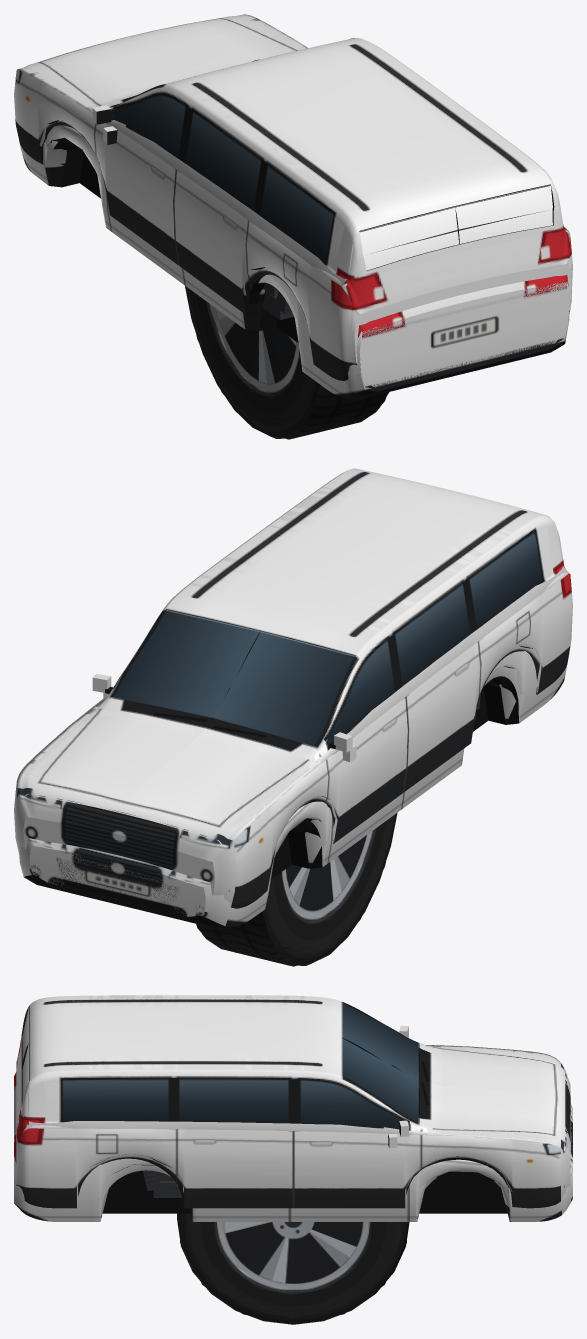
The model's file is cars.14a2acff.glb.
The picture shows the model from 3 angles, top to bottom: view 1: azimuth 30°, elevation 25°; view 2: azimuth 150°, elevation 25°; view 3: azimuth 270°, elevation 25°; orthographic projection. The views are drawn at different scales.
Parts seen in each view (by area): view 1: suv_0, suv_2, suv_1, sedan_1, sedan_0, hatch_0, sedan_2, wheel_1, wheel_2, wheel_0, hatch_1, hatch_2; view 2: suv_0, suv_2, sedan_0, suv_1, wheel_1, sedan_2, wheel_0, wheel_2, hatch_0, hatch_2, sedan_1; view 3: suv_0, suv_2, sedan_0, wheel_2, suv_1, wheel_1, wheel_0, hatch_0, hatch_2.
Boxes of the visible parts, x1,y1,x2,y2 form: suv_0: (14, 14, 572, 380); suv_2: (28, 18, 569, 360); suv_1: (20, 14, 570, 360); sedan_1: (45, 126, 567, 392); sedan_0: (20, 125, 569, 398); hatch_0: (20, 125, 569, 388); sedan_2: (45, 137, 567, 388); wheel_1: (189, 289, 385, 439); wheel_2: (191, 291, 309, 421); wheel_0: (185, 286, 389, 438); hatch_1: (45, 140, 567, 387); hatch_2: (45, 137, 567, 387); suv_0: (14, 468, 572, 908); suv_2: (24, 525, 568, 891); sedan_0: (19, 651, 569, 927); suv_1: (17, 476, 570, 892); wheel_1: (196, 816, 393, 966); sedan_2: (31, 665, 522, 915); wheel_0: (196, 813, 397, 965); wheel_2: (269, 818, 390, 948); hatch_0: (23, 651, 525, 928); hatch_2: (31, 665, 522, 908); sedan_1: (31, 666, 522, 916); suv_0: (16, 995, 570, 1208); suv_2: (16, 995, 532, 1191); sedan_0: (14, 1072, 572, 1221); wheel_2: (185, 1215, 400, 1319); suv_1: (16, 995, 564, 1202); wheel_1: (180, 1214, 406, 1316); wheel_0: (177, 1213, 409, 1324); hatch_0: (14, 1157, 572, 1221); hatch_2: (98, 1164, 509, 1219).
Bounding box in the file's own units: 2.05 × 2.66 × 4.8.
Materials: 1 (1 with a texture image).
